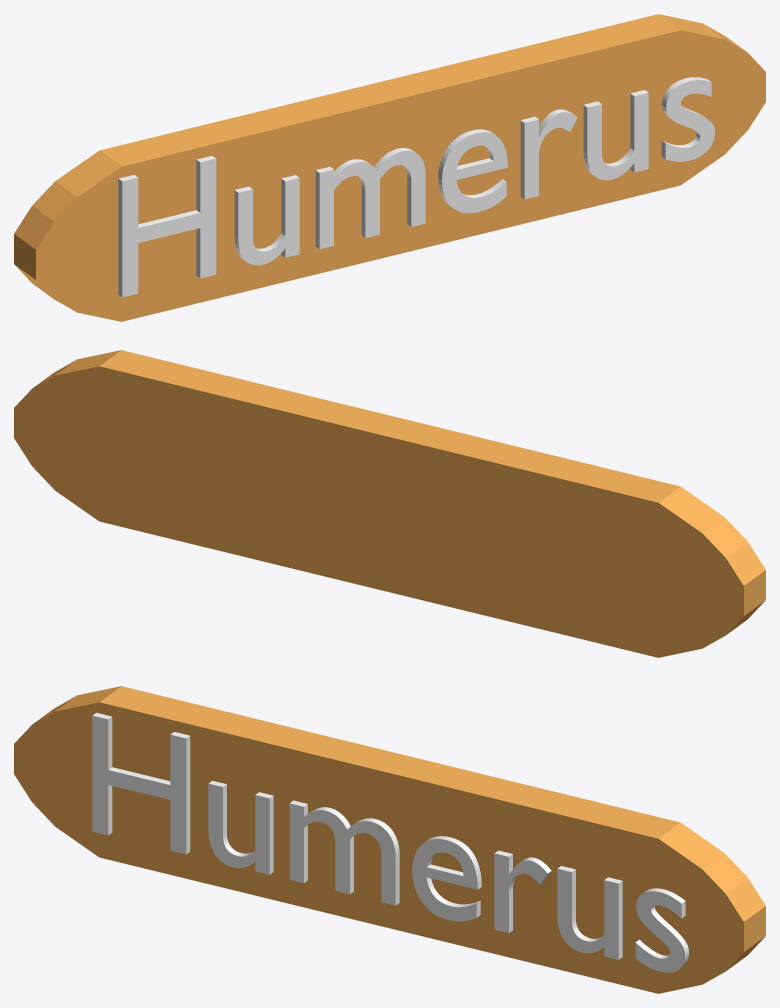
File: txtHumerus.fbx
3 views of the same model, one above another, from view 1: azimuth 30°, elevation 25°; view 2: azimuth 150°, elevation 25°; view 3: azimuth 330°, elevation 25° (orthographic).
Parts seen in each view (by area): view 1: TagContainer.003, Text.003; view 2: TagContainer.003; view 3: TagContainer.003, Text.003.
Part boxes in pixels (left/top/right/bottom): TagContainer.003: left=14, top=14, right=765, bottom=321; Text.003: left=118, top=77, right=714, bottom=297; TagContainer.003: left=14, top=350, right=765, bottom=657; TagContainer.003: left=14, top=686, right=765, bottom=993; Text.003: left=92, top=712, right=688, bottom=972.
Size of the model in its own units: 203 by 41.3 by 12.58.
